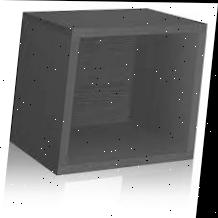cube: (10, 6, 211, 177)
